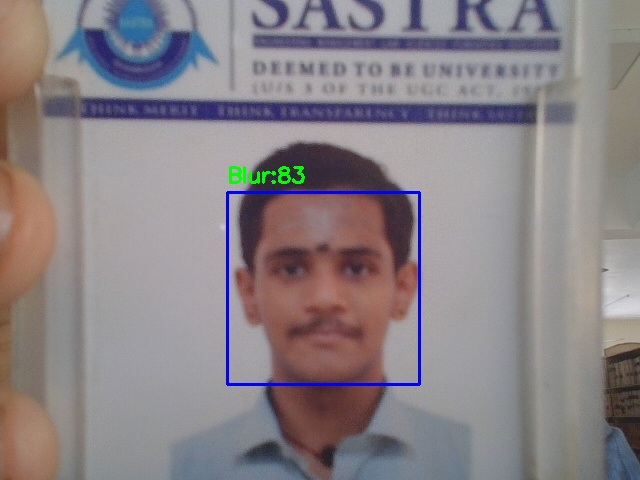fake: (227, 192, 419, 384)
